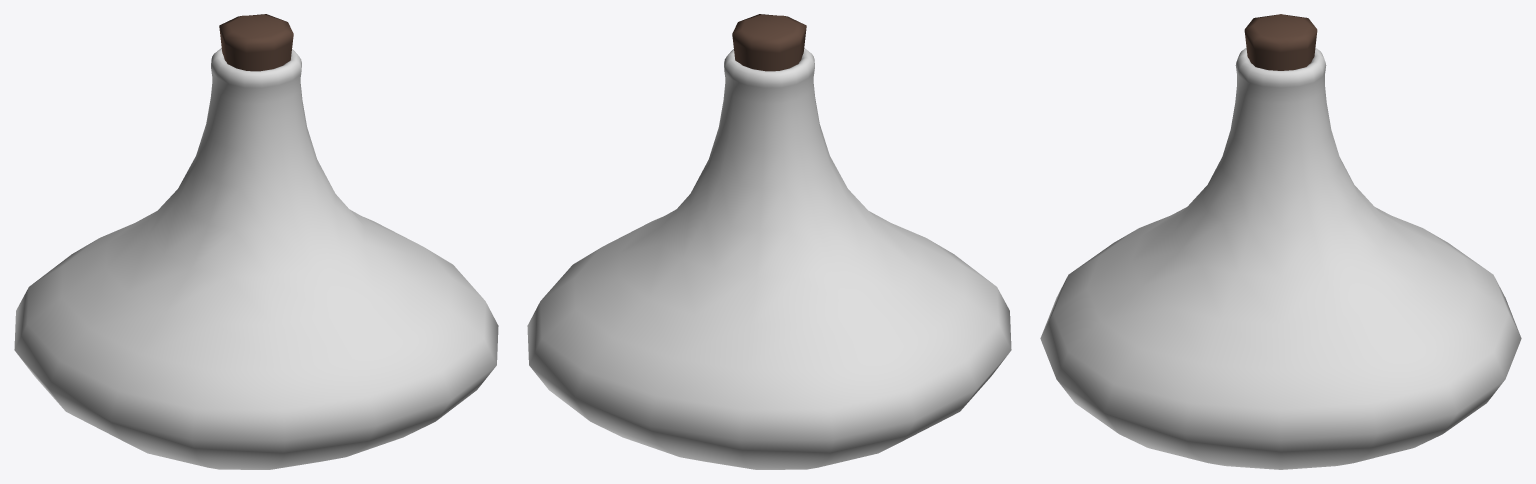
The model's file is potion8_filled.glb.
3 views of the same model, side by side, from view 1: azimuth 30°, elevation 25°; view 2: azimuth 150°, elevation 25°; view 3: azimuth 270°, elevation 25° (orthographic).
Visible parts, largest first — view 1: Potion8_Filled; view 2: Potion8_Filled; view 3: Potion8_Filled.
Part boxes in pixels (box(x1,y1,x2,y2)): Potion8_Filled: box(14, 14, 498, 469); Potion8_Filled: box(527, 14, 1011, 469); Potion8_Filled: box(1040, 14, 1521, 469).
Size of the model in its own units: 0.7035 by 0.6821 by 0.7035.
